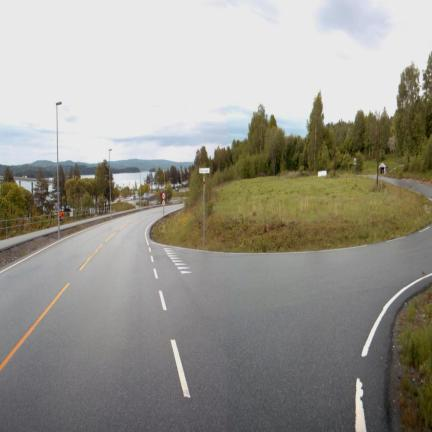Road: (0, 209, 431, 430)
